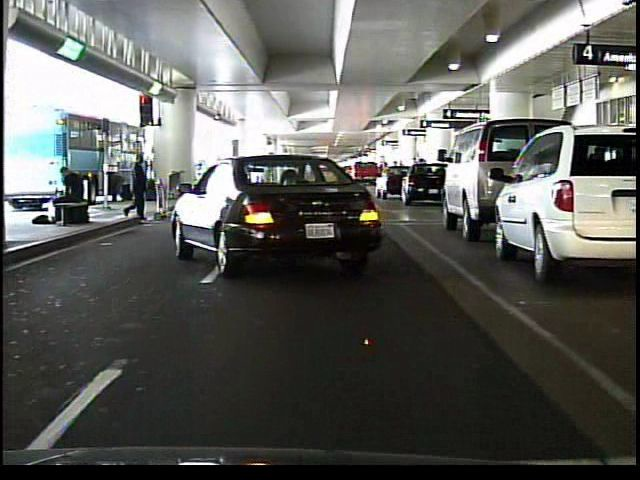person: (51, 164, 88, 232), (120, 149, 153, 219)
